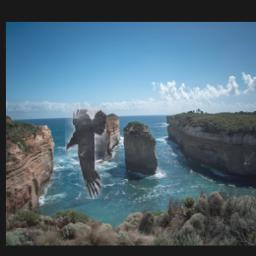Crow: (65, 107, 106, 200)
